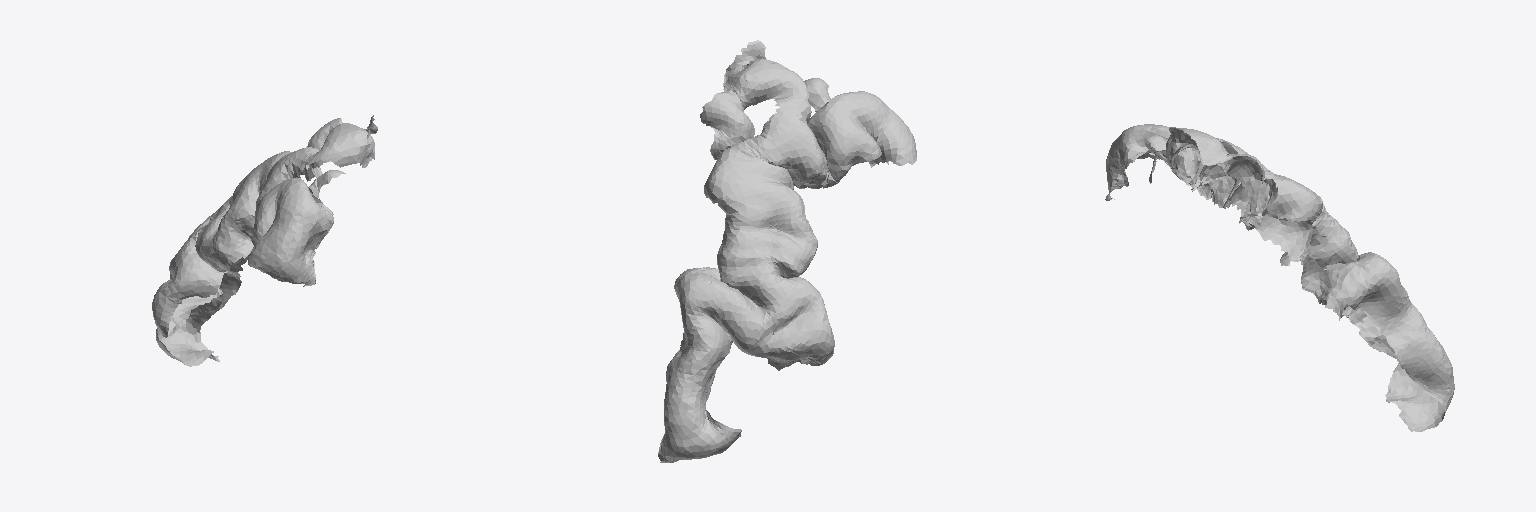
Rendered from R_middle_frontal.obj.
The picture shows the model from 3 angles: view 1: azimuth 30°, elevation 25°; view 2: azimuth 150°, elevation 25°; view 3: azimuth 270°, elevation 25°; orthographic projection.
Parts seen in each view (by area): view 1: R_middle_frontal_L_frontal_middle; view 2: R_middle_frontal_L_frontal_middle; view 3: R_middle_frontal_L_frontal_middle.
Part boxes in pixels (bbox=[...]): R_middle_frontal_L_frontal_middle: bbox=[152, 115, 377, 366]; R_middle_frontal_L_frontal_middle: bbox=[658, 40, 916, 462]; R_middle_frontal_L_frontal_middle: bbox=[1105, 124, 1454, 431].
Size of the model in its own units: 139 by 260 by 255.